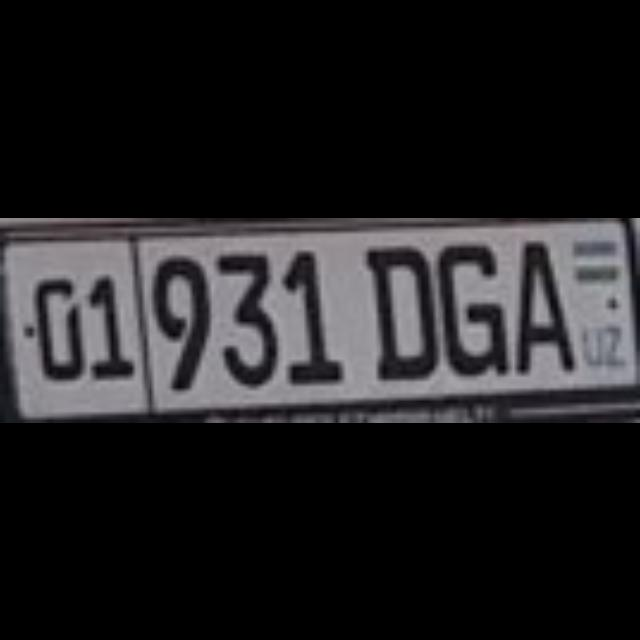0: (29, 270, 77, 374)
1: (272, 246, 340, 380), (82, 270, 125, 374)
3: (210, 246, 272, 384)
9: (143, 250, 205, 390)
A: (512, 237, 568, 366)
D: (363, 241, 435, 375)
G: (434, 240, 506, 370)
